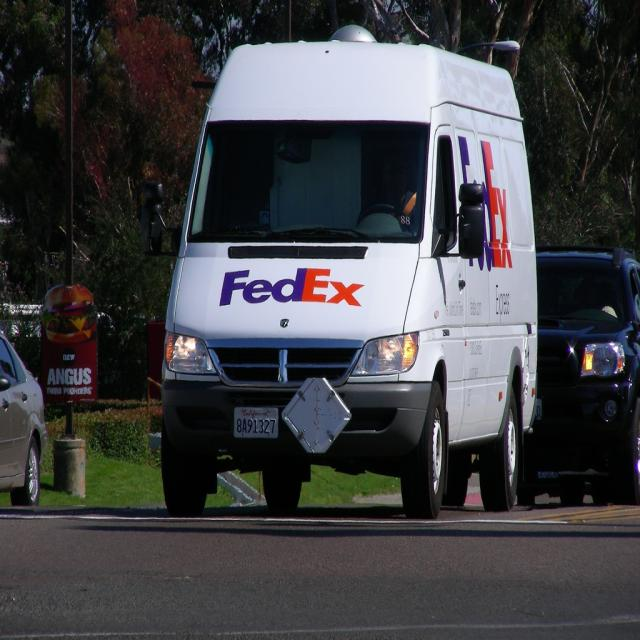fedex: (454, 133, 517, 274), (217, 263, 367, 310)
